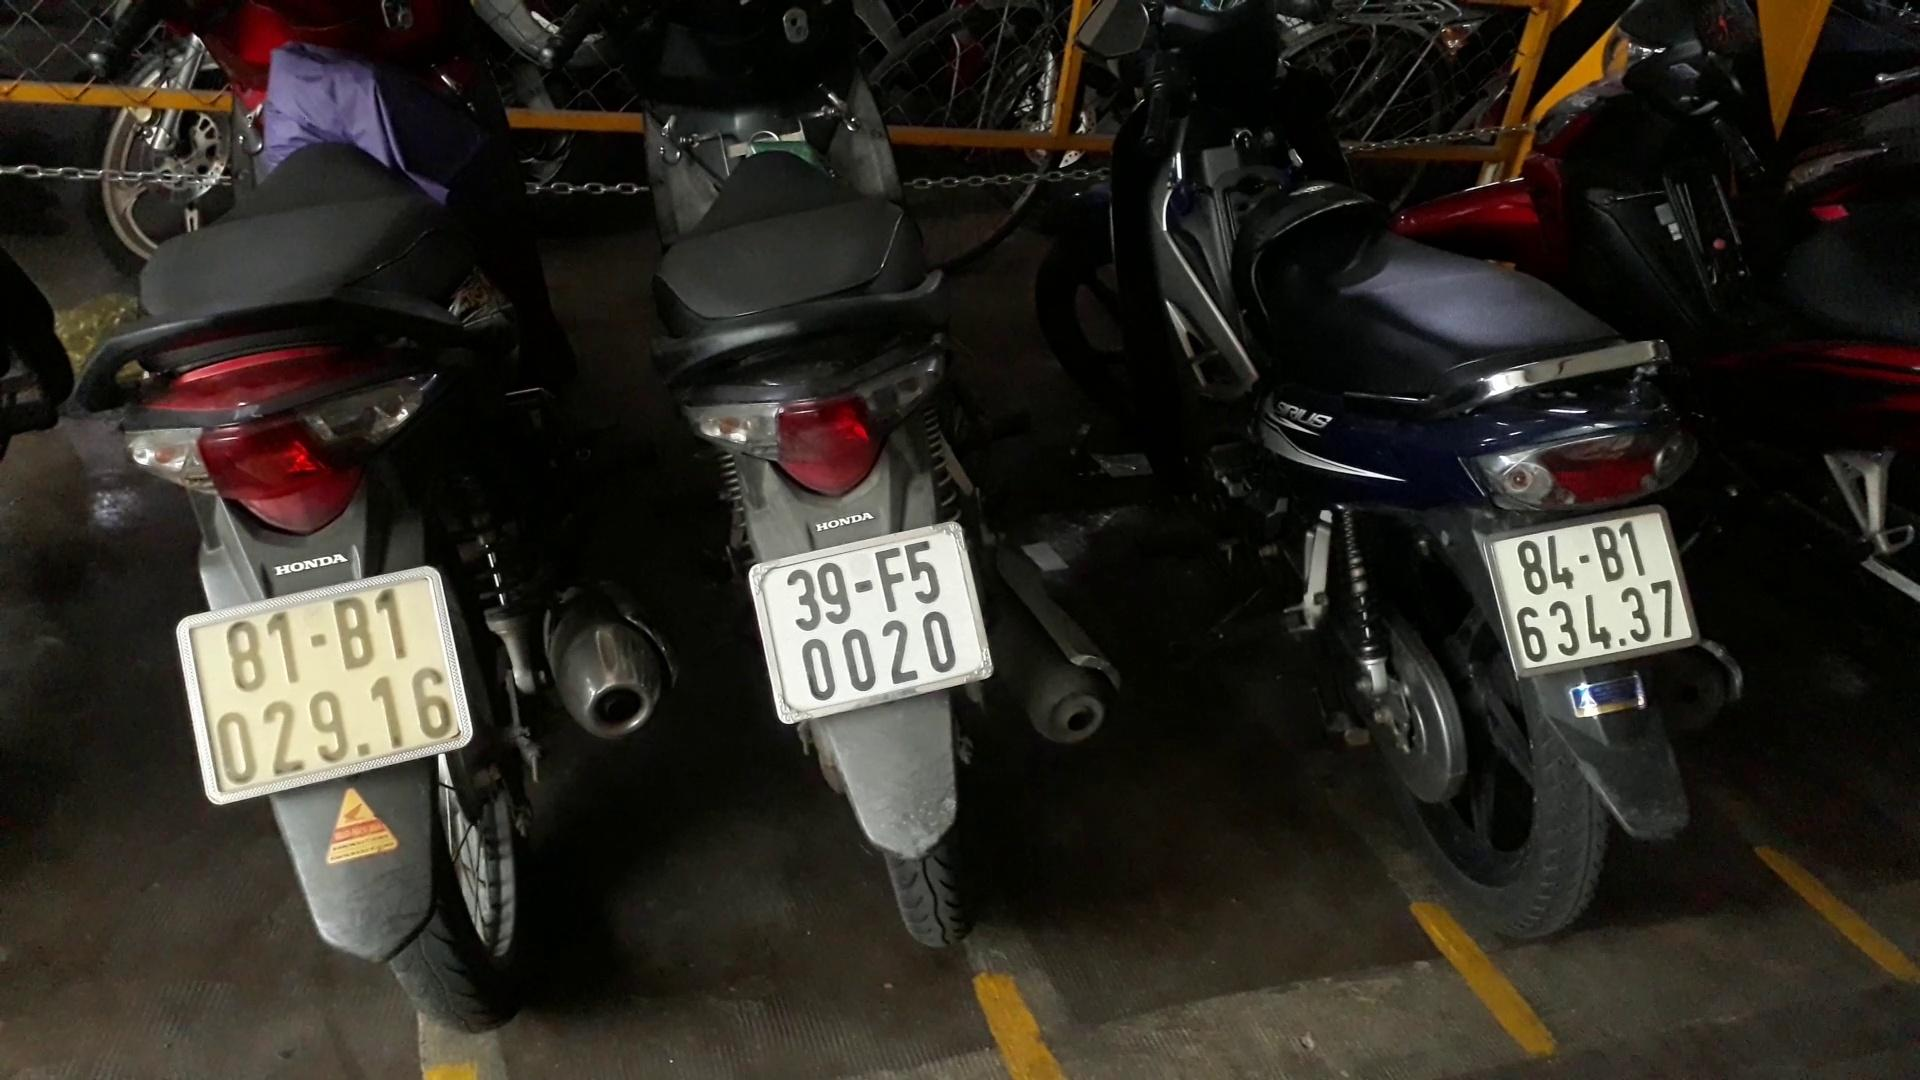numplate: (163, 577, 500, 783), (727, 543, 1020, 710), (1480, 510, 1710, 677)
